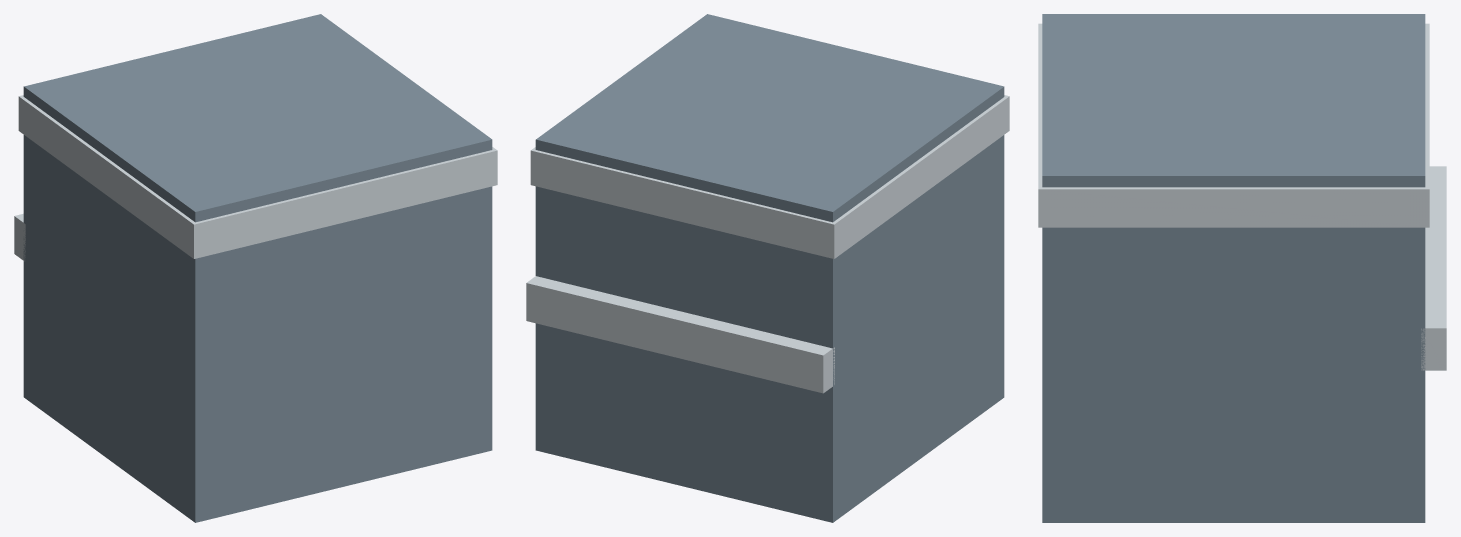
File: crate.gltf
The picture shows the model from 3 angles, left to right: view 1: azimuth 30°, elevation 25°; view 2: azimuth 150°, elevation 25°; view 3: azimuth 270°, elevation 25°; orthographic projection. The views are drawn at different scales.
Parts seen in each view (by area): view 1: body, trimB; view 2: body, trimB, trimA; view 3: body, trimB, trimA.
Part boxes in pixels (bbox=[...]): body: bbox=[23, 14, 492, 522]; trimB: bbox=[18, 95, 497, 258]; body: bbox=[535, 14, 1004, 522]; trimB: bbox=[530, 95, 1009, 258]; trimA: bbox=[526, 276, 834, 393]; body: bbox=[1042, 14, 1425, 522]; trimB: bbox=[1038, 23, 1429, 227]; trimA: bbox=[1421, 166, 1446, 370].
Bounding box in the file's own units: 0.92 × 0.9 × 0.96.
